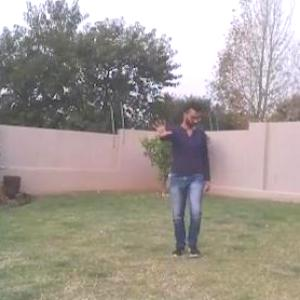follow_hand: (150, 116, 173, 139)
